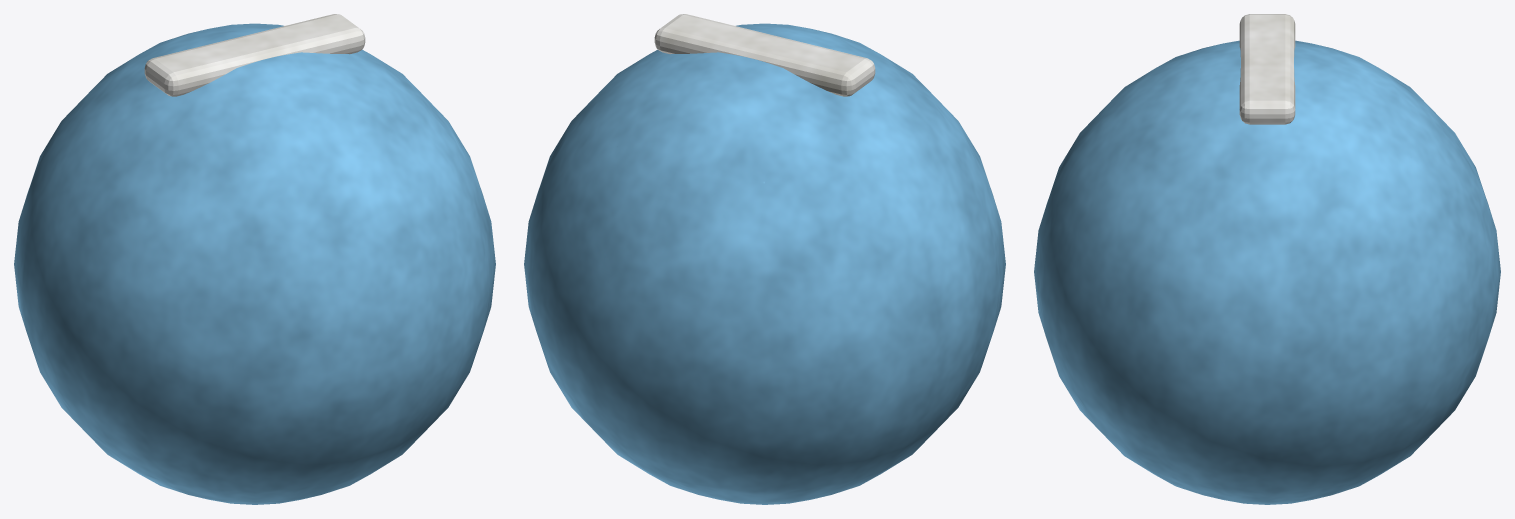
The model's file is electron.glb.
The picture shows the model from 3 angles, left to right: view 1: azimuth 30°, elevation 25°; view 2: azimuth 150°, elevation 25°; view 3: azimuth 270°, elevation 25°; orthographic projection. The views are drawn at different scales.
Visible parts, largest first — view 1: electron_textured_mesh; view 2: electron_textured_mesh; view 3: electron_textured_mesh.
Boxes of the visible parts, x1,y1,x2,y2 form: electron_textured_mesh: (14, 14, 495, 504); electron_textured_mesh: (524, 14, 1005, 504); electron_textured_mesh: (1034, 14, 1500, 504).
Size of the model in its own units: 0.92 by 0.925 by 0.92.
Materials: 1 (1 with a texture image).
